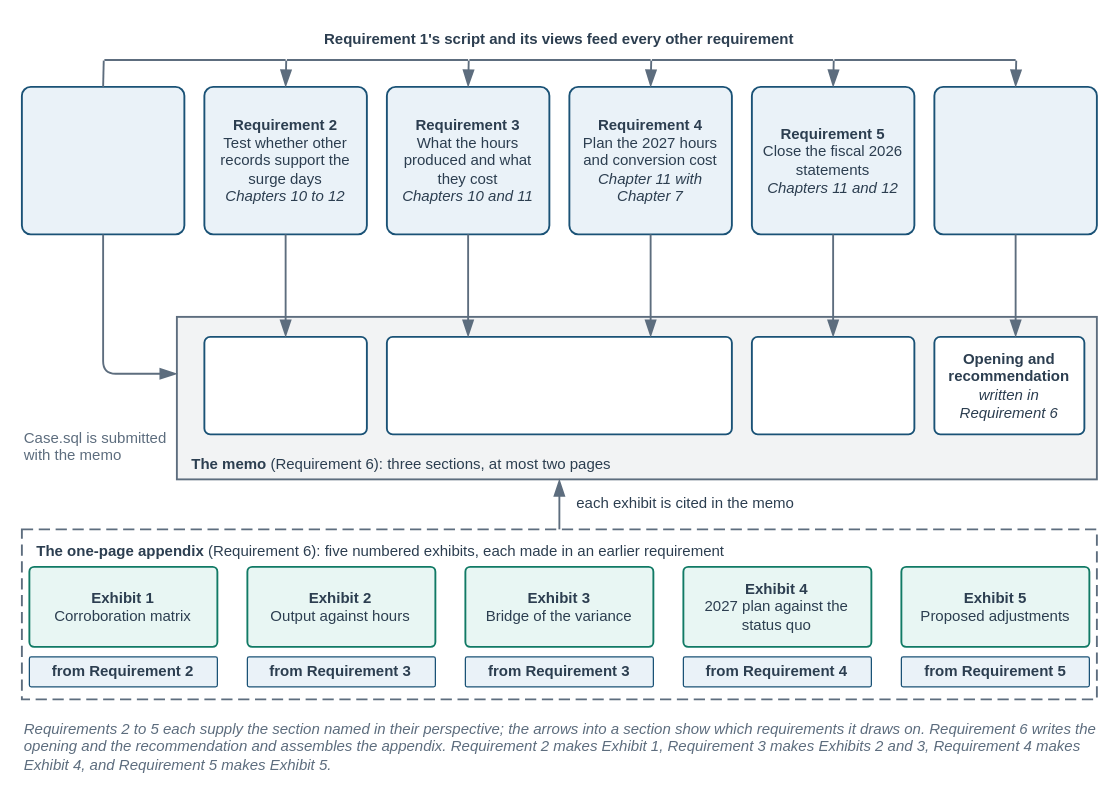
Image size: 1120x801. Some labels were removed from this diagram. The shapes that lost their labels are listed below. From the top down, each one's box as (x1, y1, x2, y2) in pixels, then its label:
(20, 85, 185, 235): Requirement 1 Build the case script and its populations Chapters 9 and 10
(933, 85, 1097, 235): Requirement 6 Write the decision memo no chapter tag
(203, 335, 367, 435): Auditing from Requirement 2
(385, 335, 732, 435): Managerial accounting from Requirements 3 and 4
(750, 335, 915, 435): Financial reporting from Requirement 5
